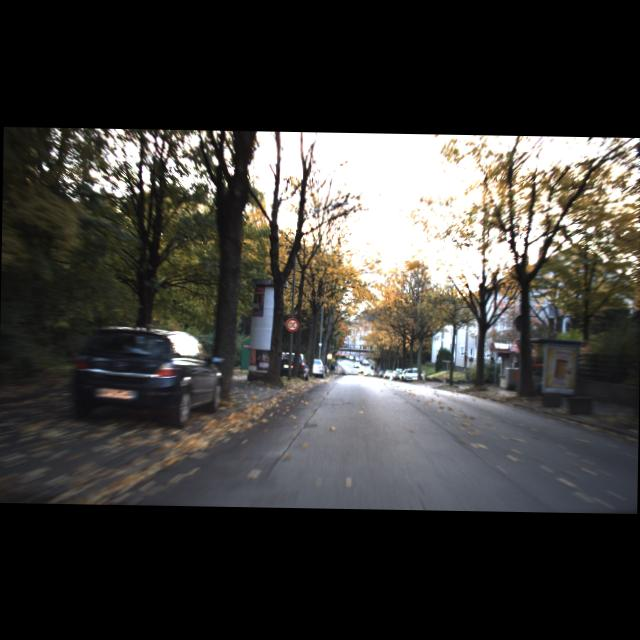prohibitory: (286, 318, 300, 332)
